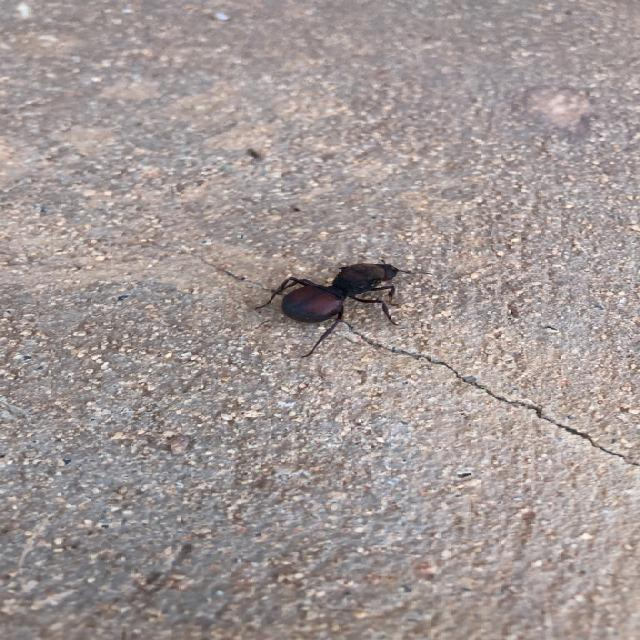Alive-Female-Dealate: (255, 260, 432, 358)
